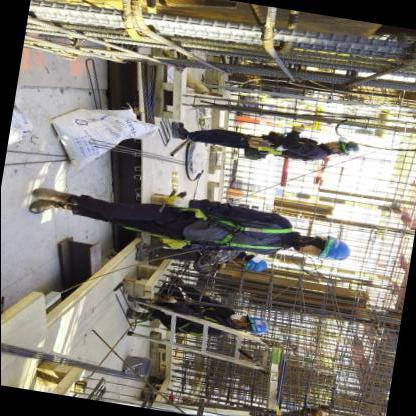safety-shoe: (28, 184, 74, 207), (27, 197, 65, 216), (131, 241, 153, 264), (169, 121, 191, 141)
